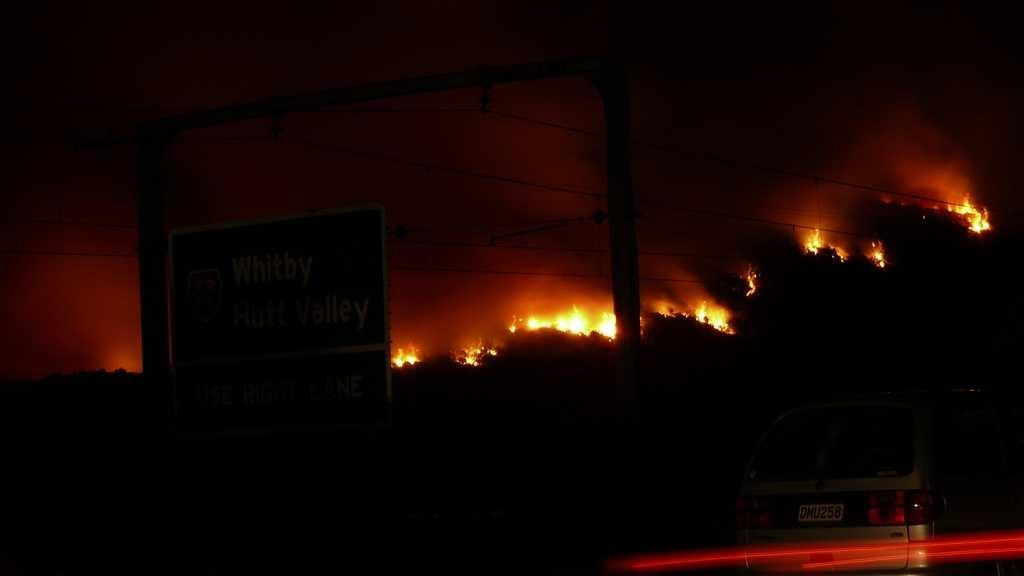fire: (523, 316, 614, 334), (956, 199, 991, 229), (697, 303, 733, 326), (393, 346, 416, 367), (807, 236, 829, 249)
